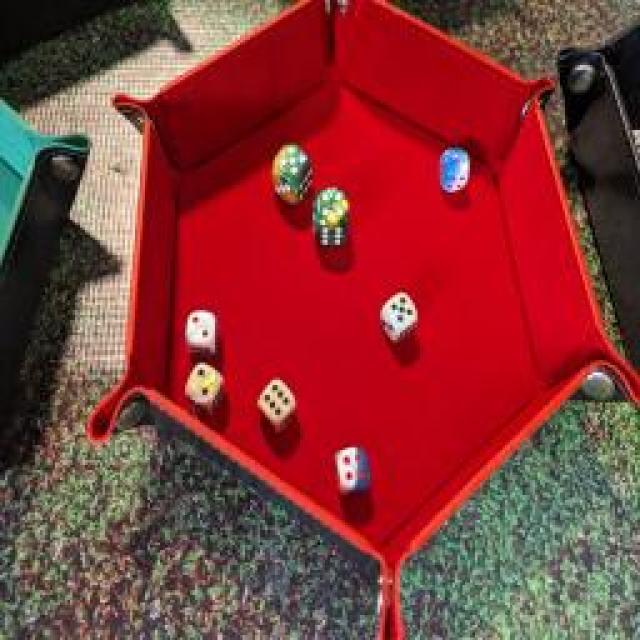dice_1: (438, 142, 472, 192)
dice_2: (182, 358, 226, 418), (180, 306, 220, 356)
dice_4: (332, 437, 372, 505), (311, 185, 351, 250)
dice_5: (268, 138, 314, 208), (375, 286, 420, 342)
dice_6: (254, 370, 296, 435)
